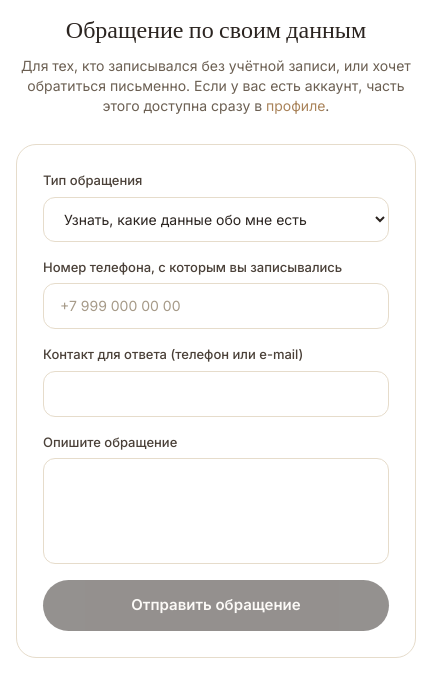
Test: SubjectRequestPage › shows the reference number and the response deadline on success — nothing about the subject
Type "+79991234567" into the field labelled "Номер телефона, с которым вы записывались" at (216, 306), box [43, 283, 389, 329]
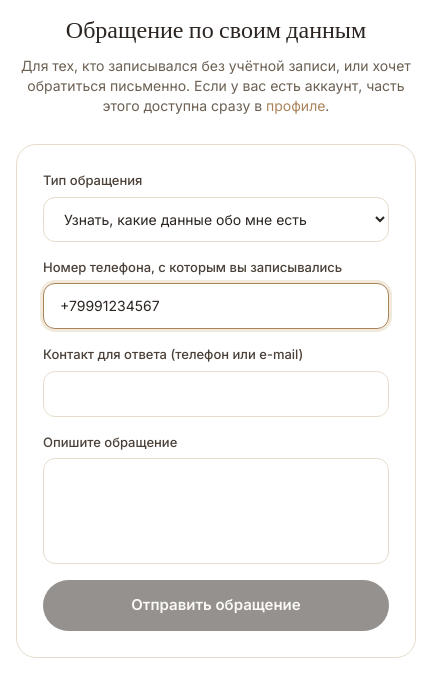
Type "me@example.com" into the field labelled "Контакт для ответа (телефон или e-mail)" at (216, 394), box [43, 370, 389, 416]
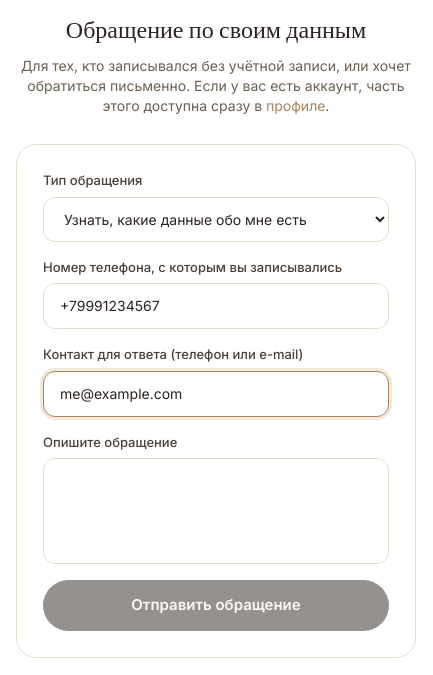
Type "Прошу удалить мои данные" into the text box labelled "Опишите обращение" at (216, 511), box [43, 458, 389, 564]
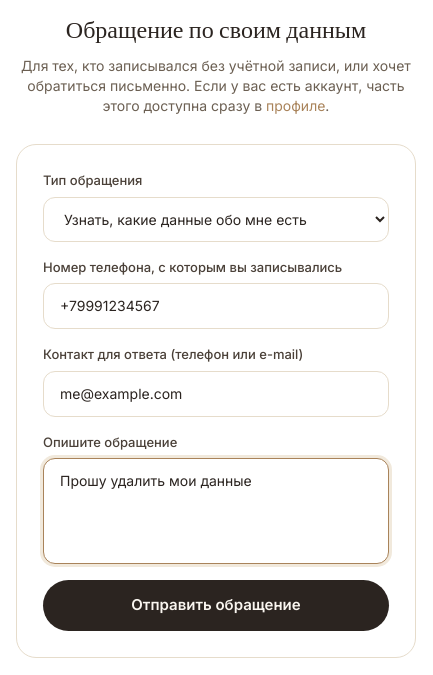
Click the button "Отправить обращение" at (216, 605), box [43, 580, 389, 630]
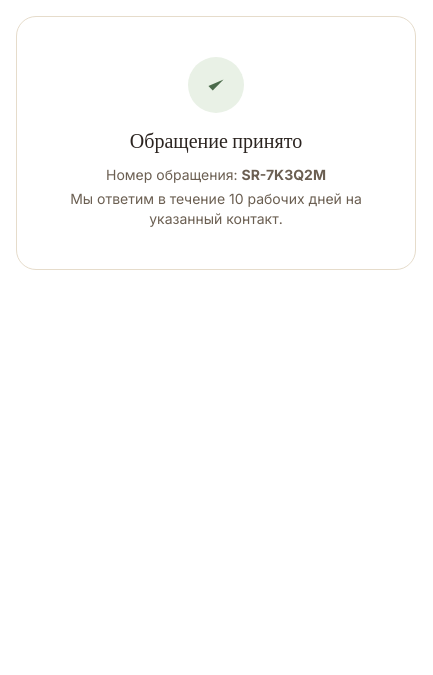
Expected: the text "SR-7K3Q2M" is shown, [242, 166, 326, 183]
Expected: the text "Мы ответим в течение 10 рабочих дней на указанный контакт." is shown, [57, 189, 375, 229]
